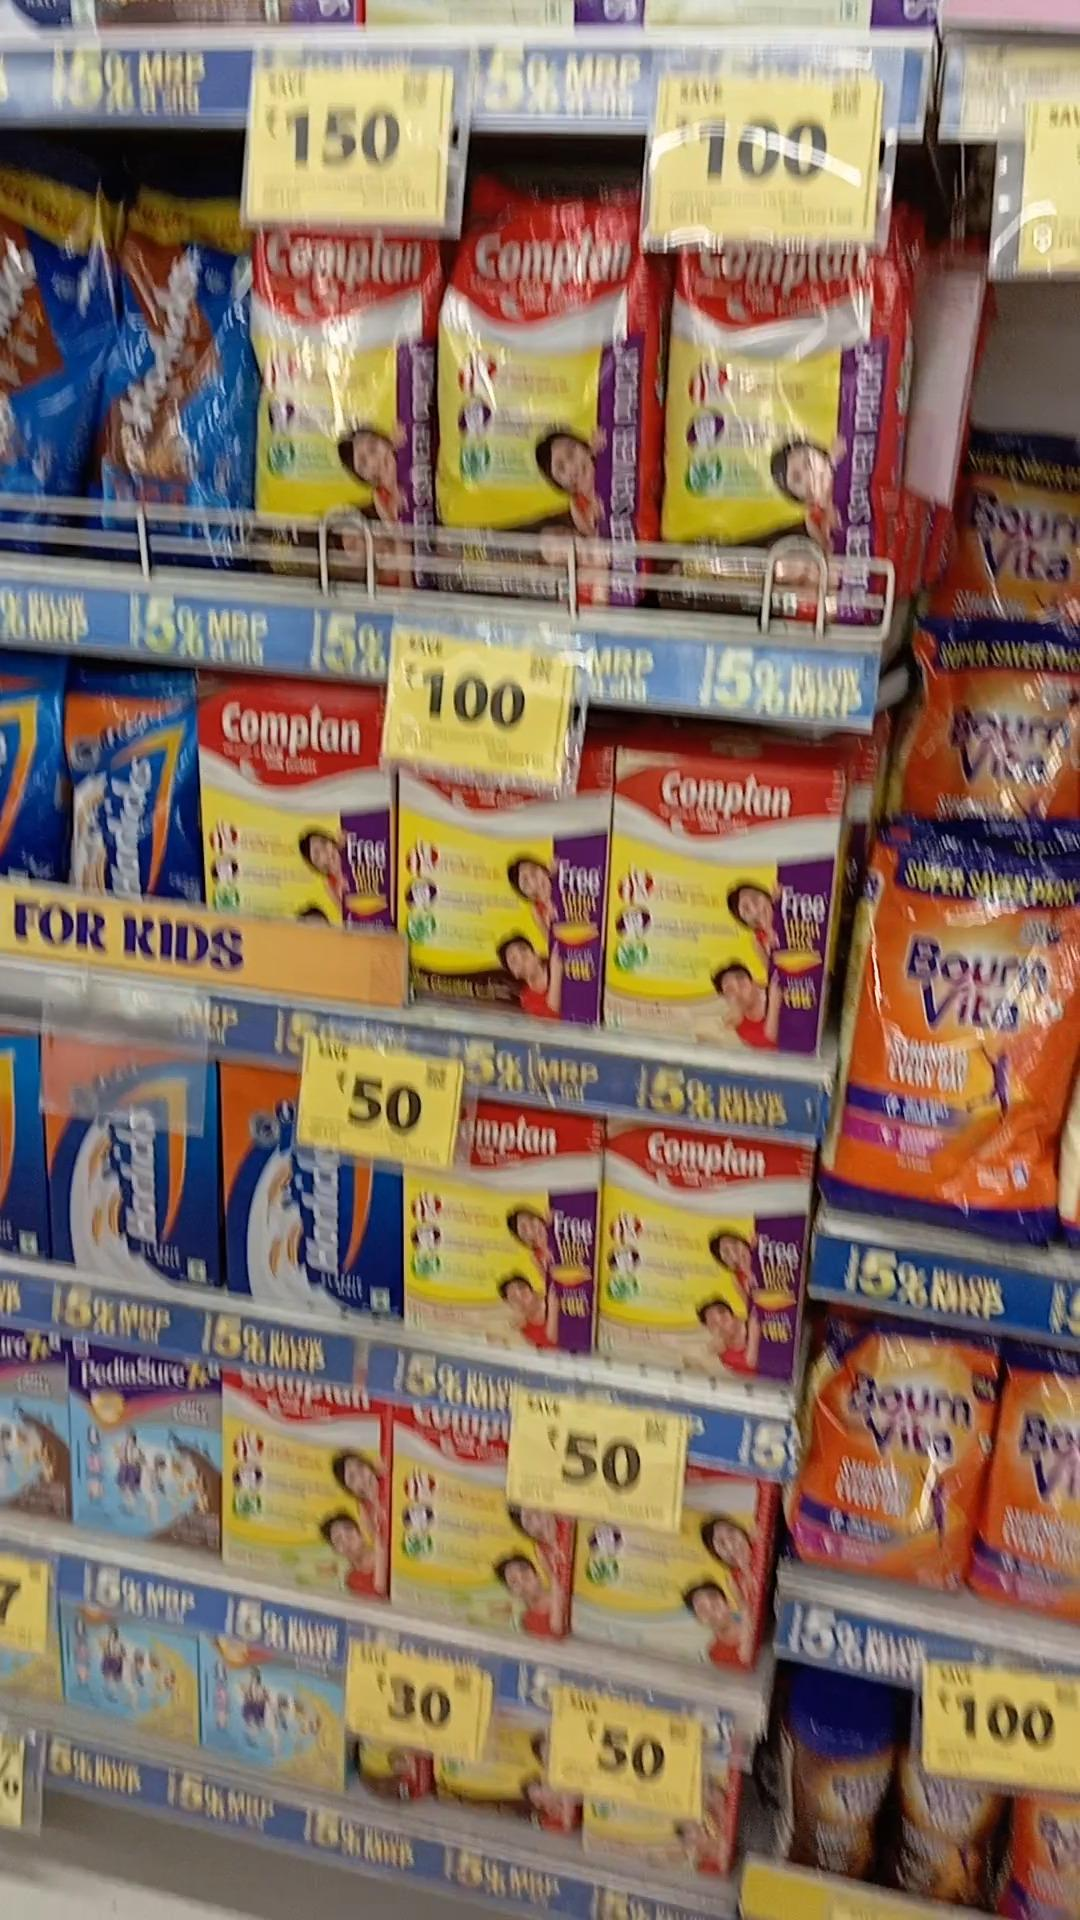BOURN_VITA_1_KG_POUCH: (843, 840, 1067, 1222)
BOURN_VITA_500_G_POUCH: (808, 1309, 980, 1597)
BOURN_VITA_FIVE_STAR_MAGIC_500_G_JAR: (782, 1662, 889, 1876)
COMPLAN_CHOCOLATE_500_GMS_PACK: (398, 764, 612, 1030)
COMPLAN_KESAR_BADAM_500_GMS_PACK: (609, 753, 831, 1059), (601, 1131, 807, 1382), (404, 1095, 587, 1369)
COMPLAN_PISTA_BADAM_500_GMS_PACK: (392, 1408, 571, 1635), (225, 1374, 382, 1605)
COMPLAN_RC_POUCH_700_GMS_12: (665, 243, 889, 620), (444, 216, 640, 605), (256, 228, 431, 587)
HORLICK_CHOCOLATE_750_G_POUCH: (102, 187, 251, 564)
HORLICK_CLASSIC_MALT_500_G_PACK: (216, 1073, 396, 1313), (44, 1038, 193, 1263)
HORLICK_CLASSIC_MALT_750_G_POUCH: (59, 667, 198, 901)
